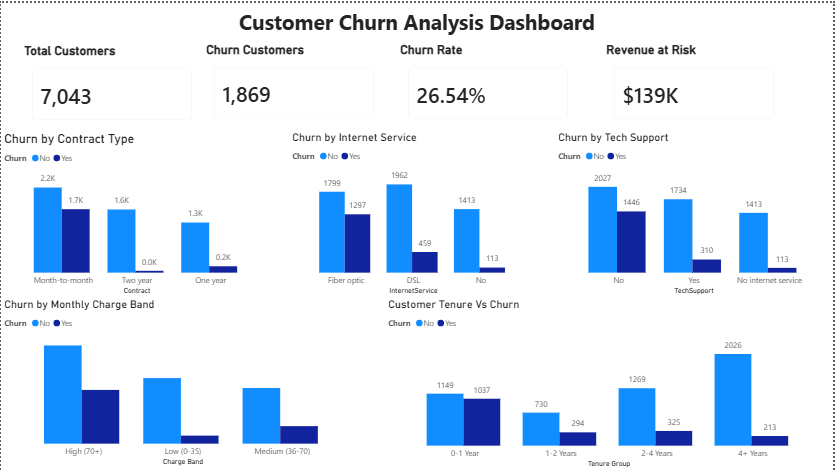

The page's visual inventory and layout, read from the dashboard file:
{"tool":"powerbi","page":{"name":"Page 1","canvas":[1280,720],"ordinal":0},"visuals":[{"type":"cardVisual","title":"Total Customers","fields":{"Data":["cleaned_customer_churn.Total Customers"]},"box":[30.8,61.5,280,135.4],"z":0},{"type":"cardVisual","title":"Churn Customers","fields":{"Data":["cleaned_customer_churn.Churned Customers"]},"box":[310.8,60,280,133.8],"z":1000},{"type":"cardVisual","title":"Churn Rate","fields":{"Data":["cleaned_customer_churn.Churn Rate"]},"box":[609.2,60,280,135.4],"z":2000},{"type":"clusteredColumnChart","title":"Churn by Contract Type","fields":{"Category":["cleaned_customer_churn.Contract"],"Y":["CountNonNull(cleaned_customer_churn.customer_id)"],"Series":["cleaned_customer_churn.Churn"]},"box":[0,196.9,418.5,256.9],"z":3000},{"type":"clusteredColumnChart","title":"Churn by Internet Service","fields":{"Category":["cleaned_customer_churn.InternetService"],"Y":["CountNonNull(cleaned_customer_churn.customer_id)"],"Series":["cleaned_customer_churn.Churn"]},"box":[443.1,196.9,383.1,256.9],"z":4000},{"type":"clusteredColumnChart","title":"Churn by Tech Support","fields":{"Series":["cleaned_customer_churn.Churn"],"Y":["CountNonNull(cleaned_customer_churn.customer_id)"],"Category":["cleaned_customer_churn.TechSupport"]},"box":[852.3,196.9,427.7,256.9],"z":5000},{"type":"clusteredColumnChart","title":"Customer Tenure Vs Churn","fields":{"Y":["CountNonNull(cleaned_customer_churn.customer_id)"],"Series":["cleaned_customer_churn.Churn"],"Category":["cleaned_customer_churn.Tenure Group"]},"box":[590.8,453.8,689.2,266.2],"z":6000},{"type":"cardVisual","title":"Revenue at Risk","fields":{"Data":["cleaned_customer_churn.Revenue at Risk"]},"box":[926.2,60,280,135.4],"z":7000},{"type":"clusteredColumnChart","title":"Churn by Monthly Charge Band","fields":{"Category":["cleaned_customer_churn.Charge Band"],"Series":["cleaned_customer_churn.Churn"],"Y":["CountNonNull(cleaned_customer_churn.customer_id)"]},"box":[0,453.8,560,263.1],"z":7001},{"type":"textbox","box":[0,1.5,1280,60],"z":7002}]}

Visuals, with their boxes in screenshot pixels (x1, y1, x2, y2), scaled from the page's 1280x720 canvas onto the 835x471 screenshot:
"Total Customers" cardVisual: select_region(20, 40, 203, 129)
"Churn Customers" cardVisual: select_region(203, 39, 385, 127)
"Churn Rate" cardVisual: select_region(397, 39, 580, 128)
"Churn by Contract Type" clusteredColumnChart: select_region(0, 129, 273, 297)
"Churn by Internet Service" clusteredColumnChart: select_region(289, 129, 539, 297)
"Churn by Tech Support" clusteredColumnChart: select_region(556, 129, 834, 297)
"Customer Tenure Vs Churn" clusteredColumnChart: select_region(385, 297, 834, 470)
"Revenue at Risk" cardVisual: select_region(604, 39, 787, 128)
"Churn by Monthly Charge Band" clusteredColumnChart: select_region(0, 297, 365, 469)
textbox: select_region(0, 1, 834, 40)
